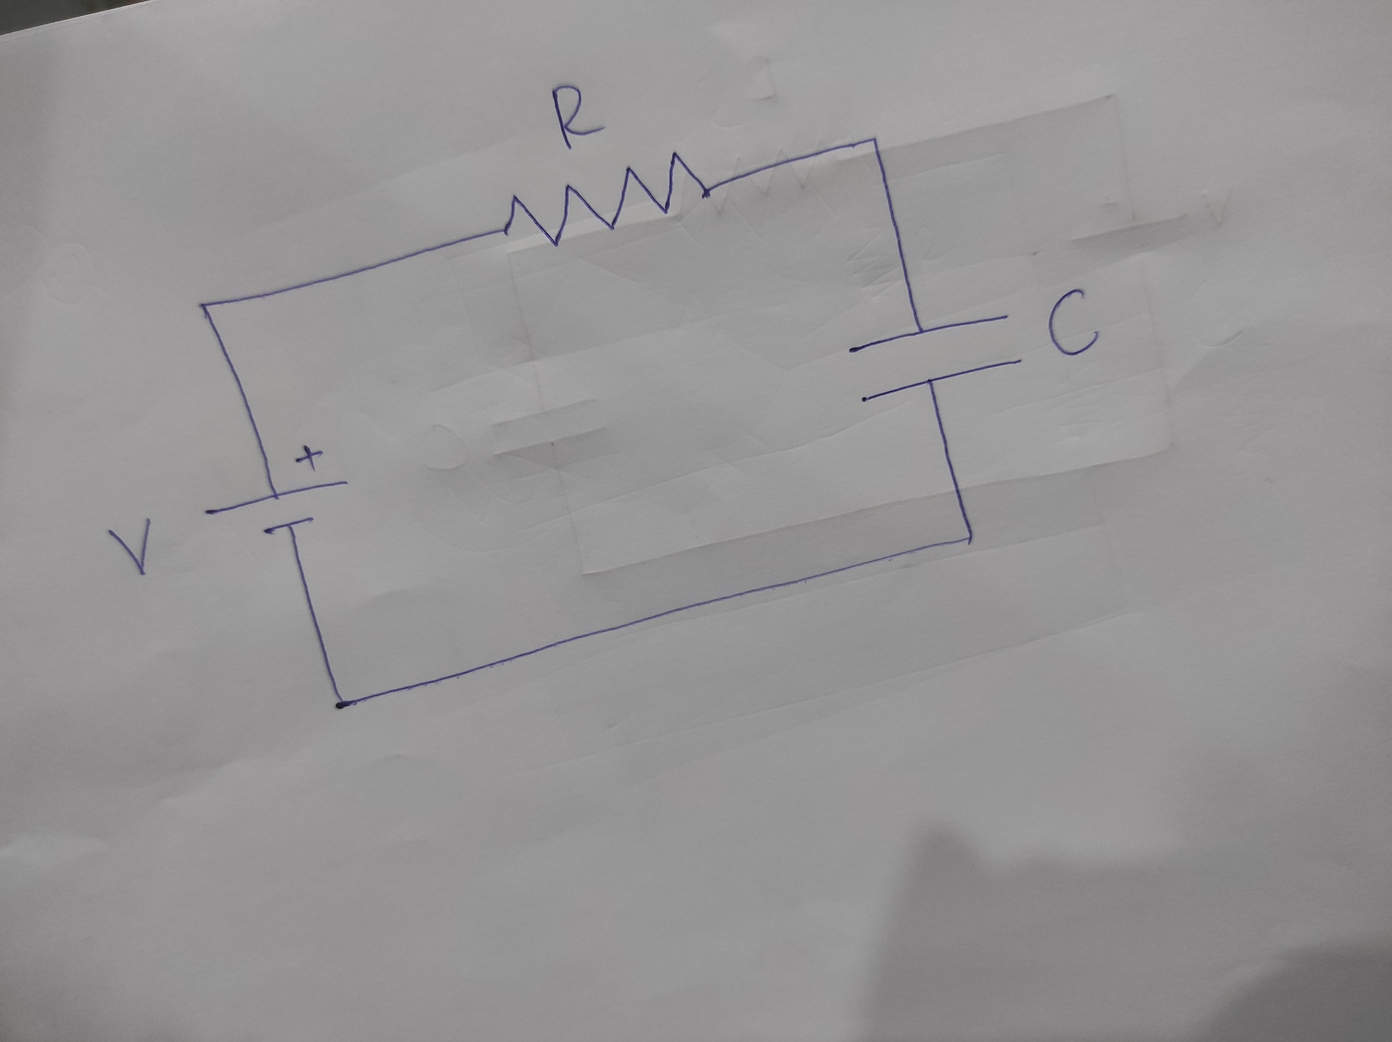capacitor.unpolarized: (847, 311, 1026, 407)
junction: (323, 685, 356, 717), (953, 525, 984, 553), (862, 129, 886, 151), (194, 294, 217, 315)
resistor: (500, 148, 714, 248)
text: (1044, 286, 1104, 359), (550, 82, 608, 151), (105, 514, 153, 579)
voltage.dc: (201, 442, 351, 537)
